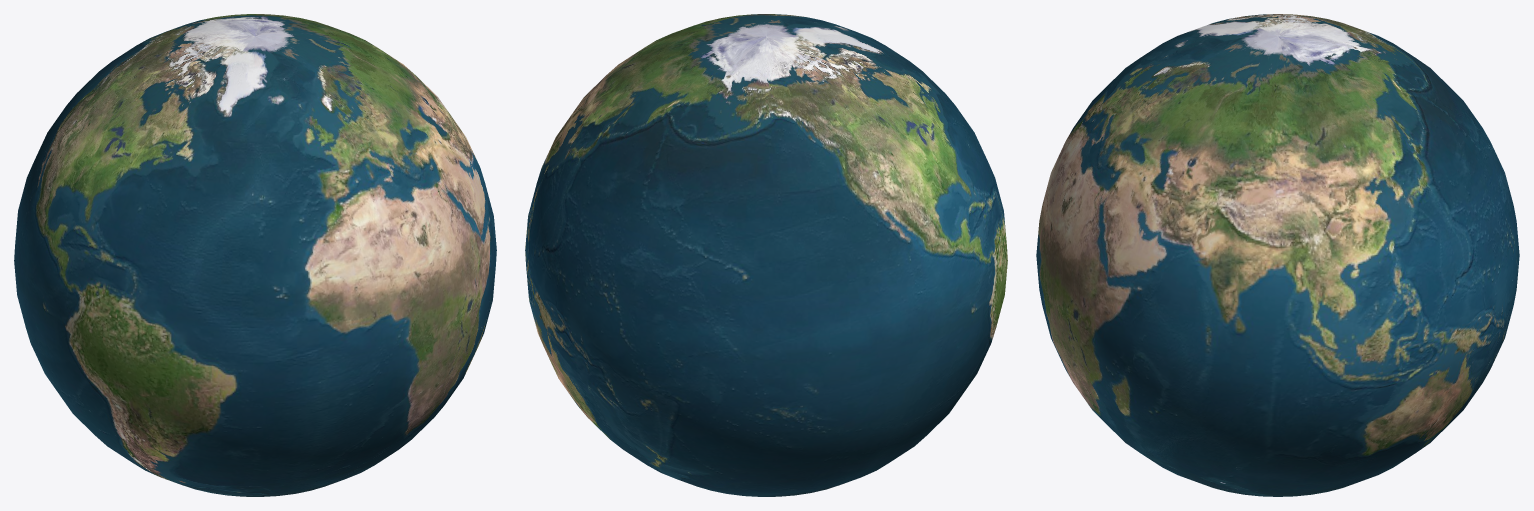
File: Earth.FBX
The picture shows the model from 3 angles, left to right: view 1: azimuth 30°, elevation 25°; view 2: azimuth 150°, elevation 25°; view 3: azimuth 270°, elevation 25°; orthographic projection.
Parts seen in each view (by area): view 1: Planet; view 2: Planet; view 3: Planet.
Part boxes in pixels (x1,y1,x2,y2): Planet: (14, 14, 496, 496); Planet: (525, 14, 1007, 496); Planet: (1036, 14, 1519, 496).
Size of the model in its own units: 26 by 26 by 26.
1 material, 1 textured.
